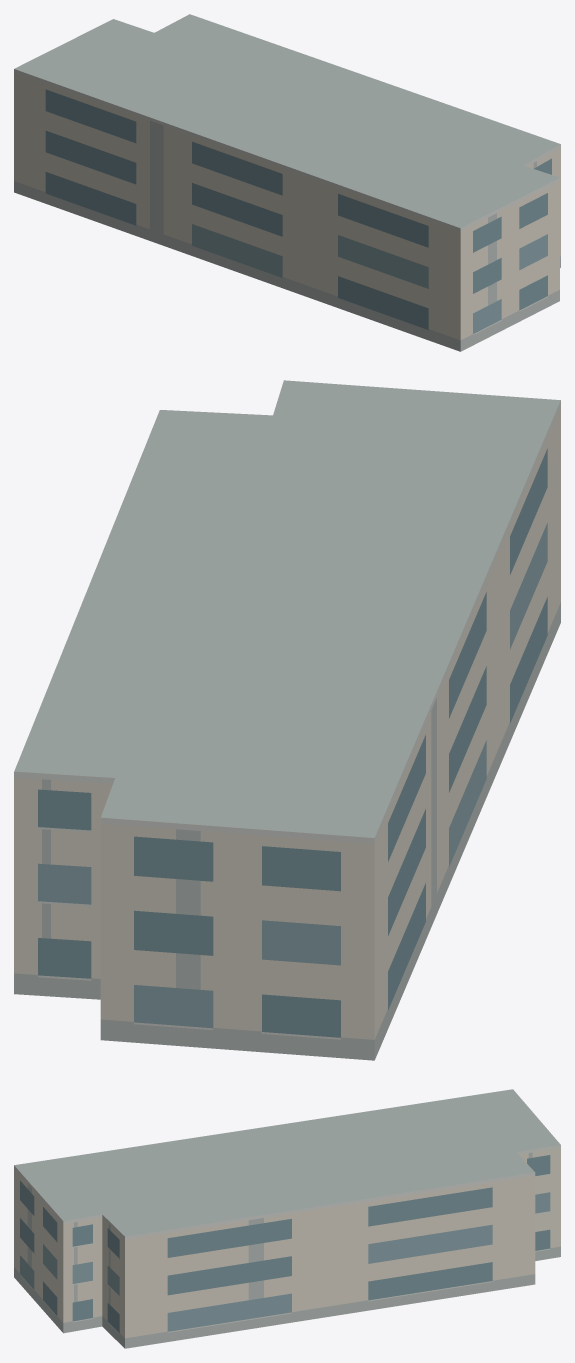
Rendered from survey-upis-32854065.glb.
3 views of the same model, one above another, from view 1: azimuth 30°, elevation 25°; view 2: azimuth 150°, elevation 25°; view 3: azimuth 270°, elevation 25° (orthographic). The views are drawn at different scales.
Parts seen in each view (by area): view 1: survey-upis-32854065.tmp; view 2: survey-upis-32854065.tmp; view 3: survey-upis-32854065.tmp.
Part boxes in pixels (bbox=[...]): survey-upis-32854065.tmp: bbox=[14, 14, 560, 351]; survey-upis-32854065.tmp: bbox=[14, 380, 560, 1060]; survey-upis-32854065.tmp: bbox=[14, 1089, 560, 1348].
Size of the model in its own units: 25.82 by 9.15 by 40.47.
